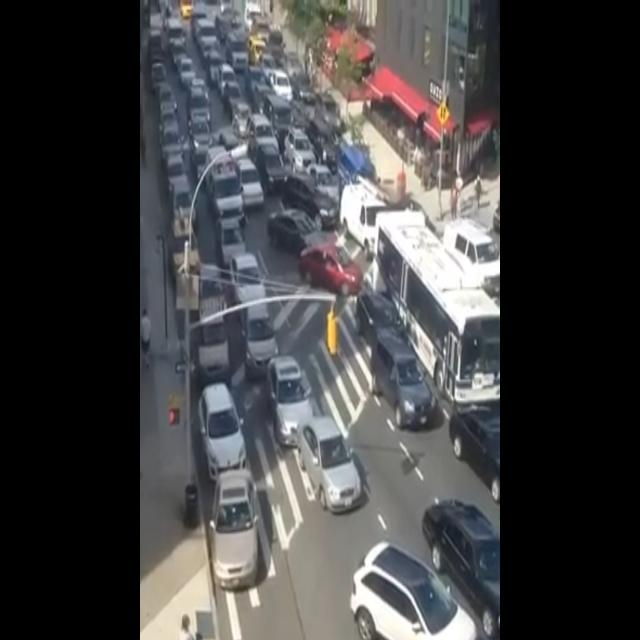Ambulance: (204, 141, 246, 224)
